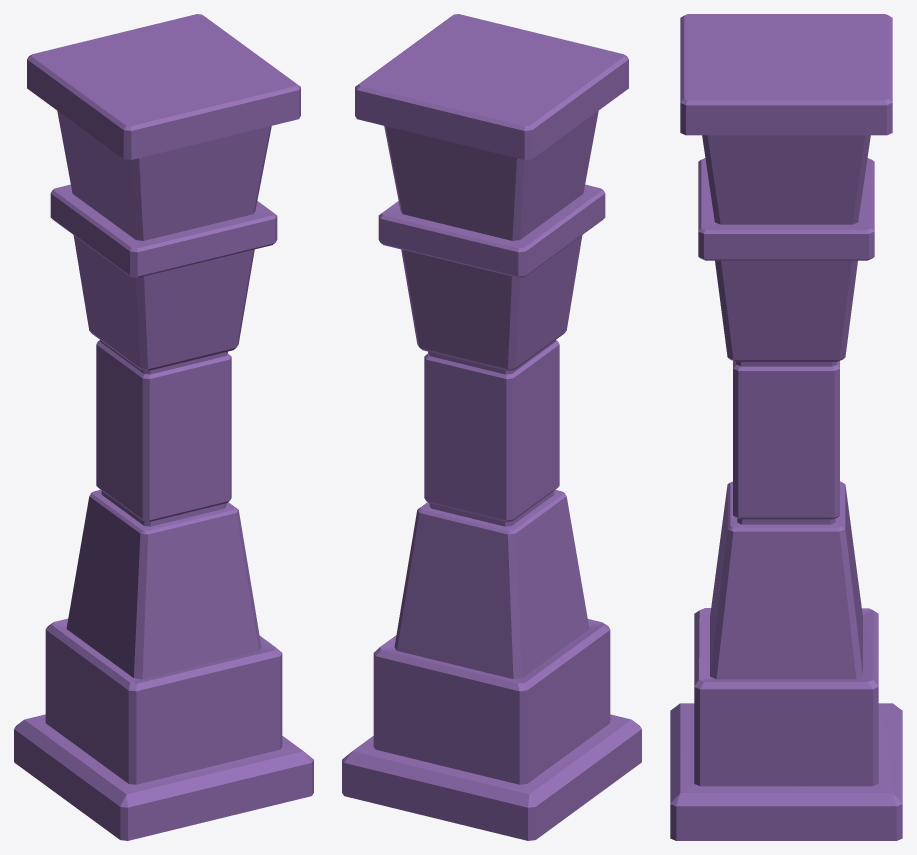
The model's file is Pillar_HighPoly 1.fbx.
3 views of the same model, side by side, from view 1: azimuth 30°, elevation 25°; view 2: azimuth 150°, elevation 25°; view 3: azimuth 270°, elevation 25° (orthographic). The views are drawn at different scales.
Parts seen in each view (by area): view 1: Base; view 2: Base; view 3: Base.
Boxes of the visible parts, x1,y1,x2,y2 form: Base: (14, 14, 313, 840); Base: (342, 14, 641, 840); Base: (670, 14, 902, 840).
Bounding box in the file's own units: 117 × 410 × 117.
